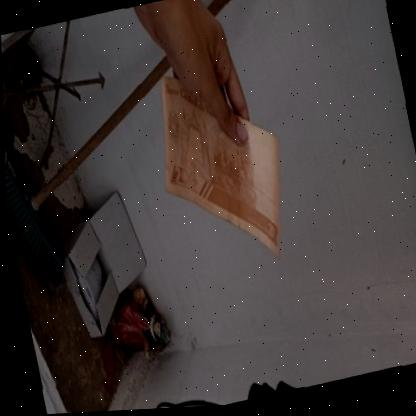twenty-back-vef: (141, 52, 302, 284)
